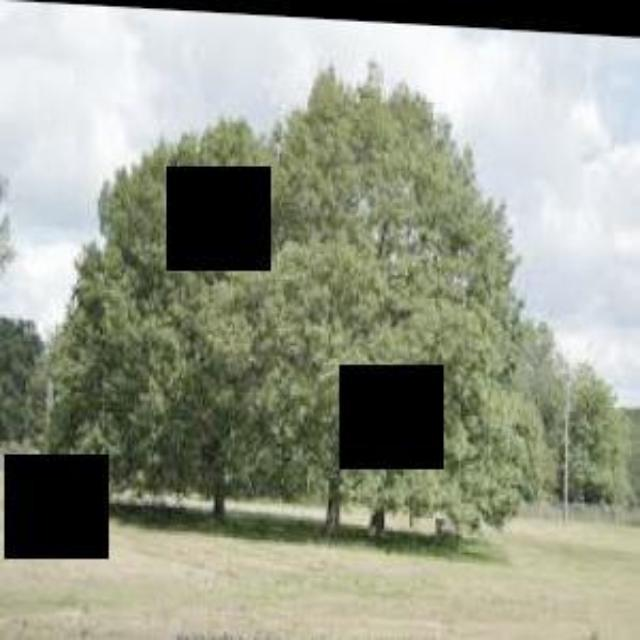tree: (41, 96, 322, 534), (303, 58, 537, 554)
